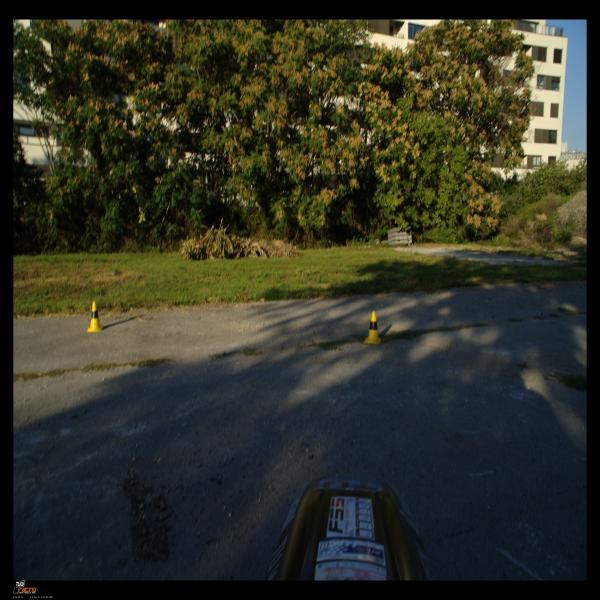yellow_cone: (363, 311, 381, 344), (87, 301, 104, 332)
